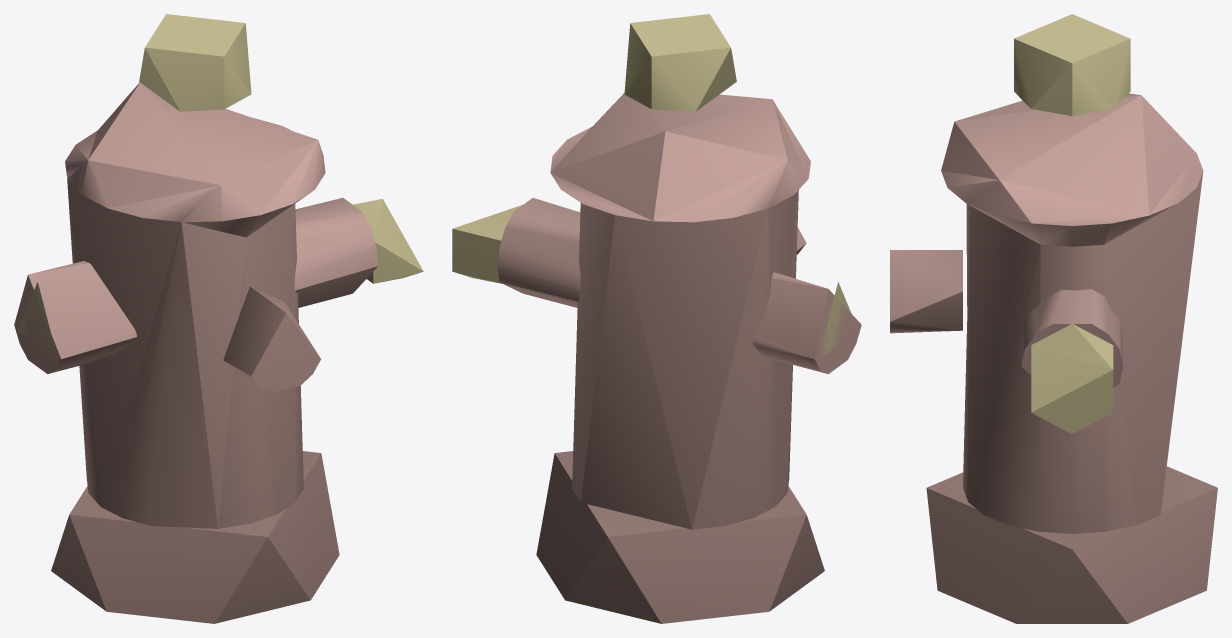
The model's file is hydrant.lod1.glb.
The picture shows the model from 3 angles, left to right: view 1: azimuth 30°, elevation 25°; view 2: azimuth 150°, elevation 25°; view 3: azimuth 270°, elevation 25°; orthographic projection.
Size of the model in its own units: 0.58 by 0.8 by 0.45.
